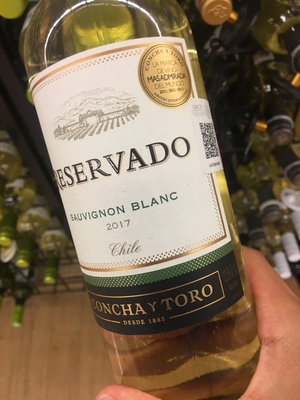reservado sauvignon blanc: (25, 20, 246, 375)
